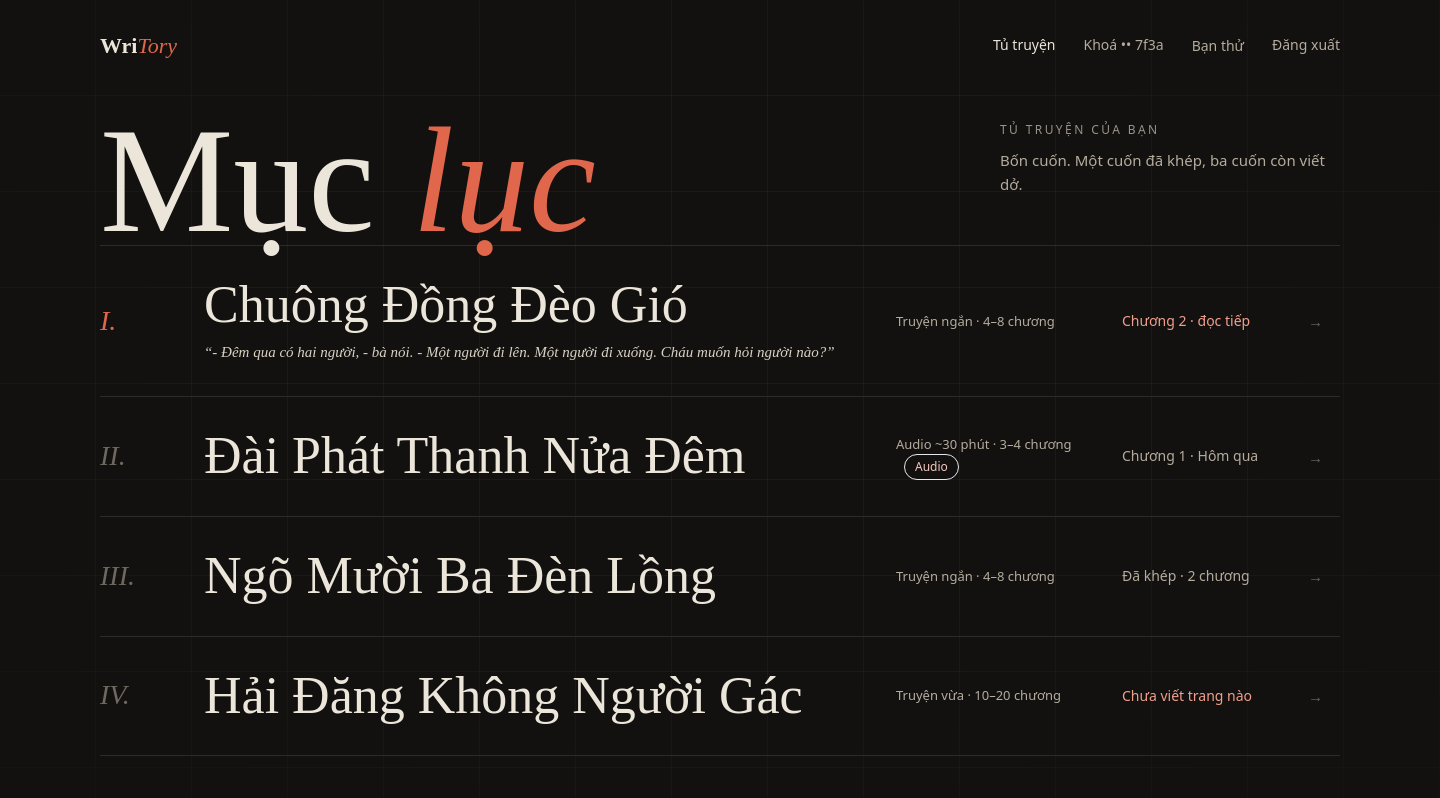
đăng nhập bằng mã mời › nút Đăng xuất ở thanh trên: đăng xuất rồi về màn đăng nhập
Click the button "Đăng xuất" at (1306, 46), box [1272,24,1340,68]
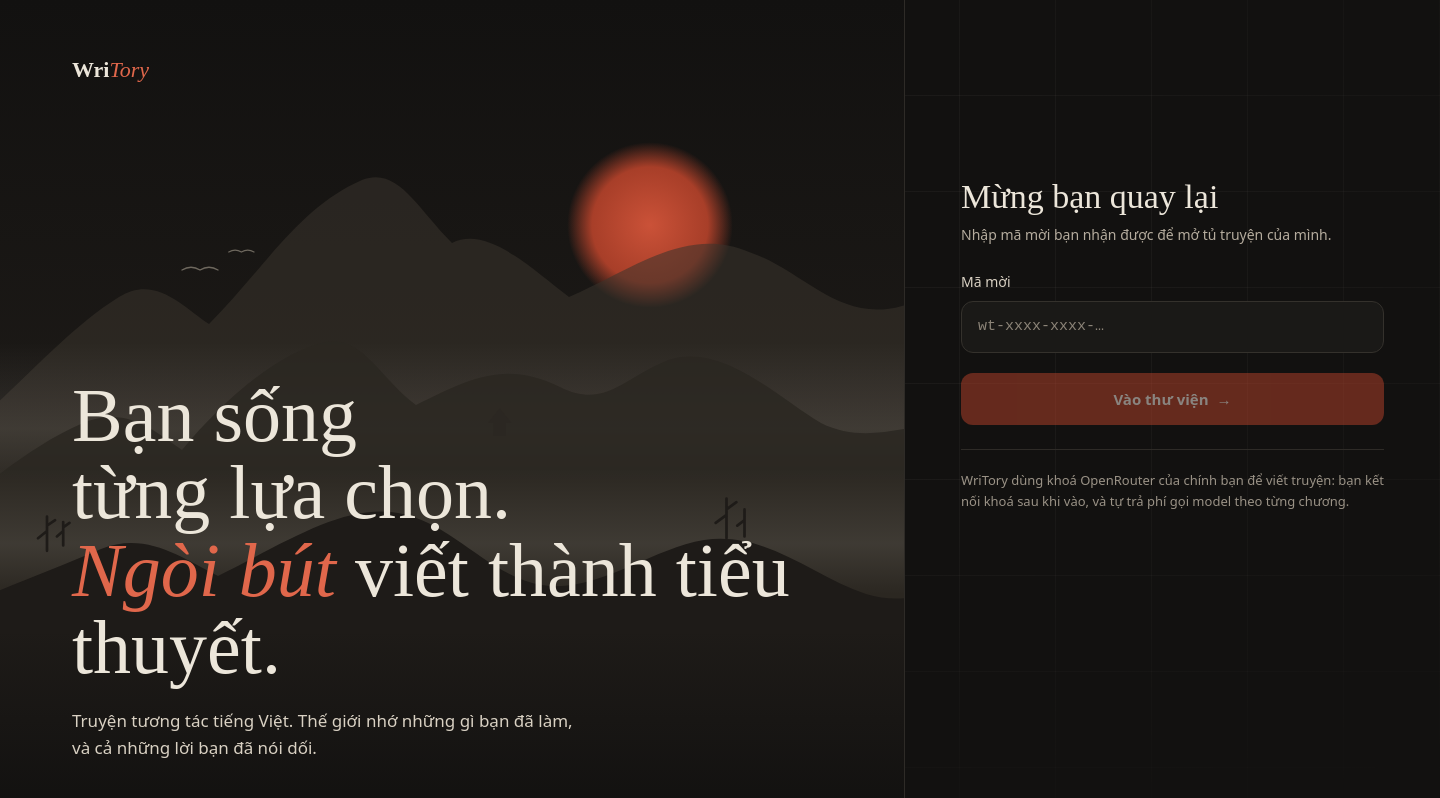
Result: the password field labelled "Mã mời" is shown at [961,301,1384,353]
